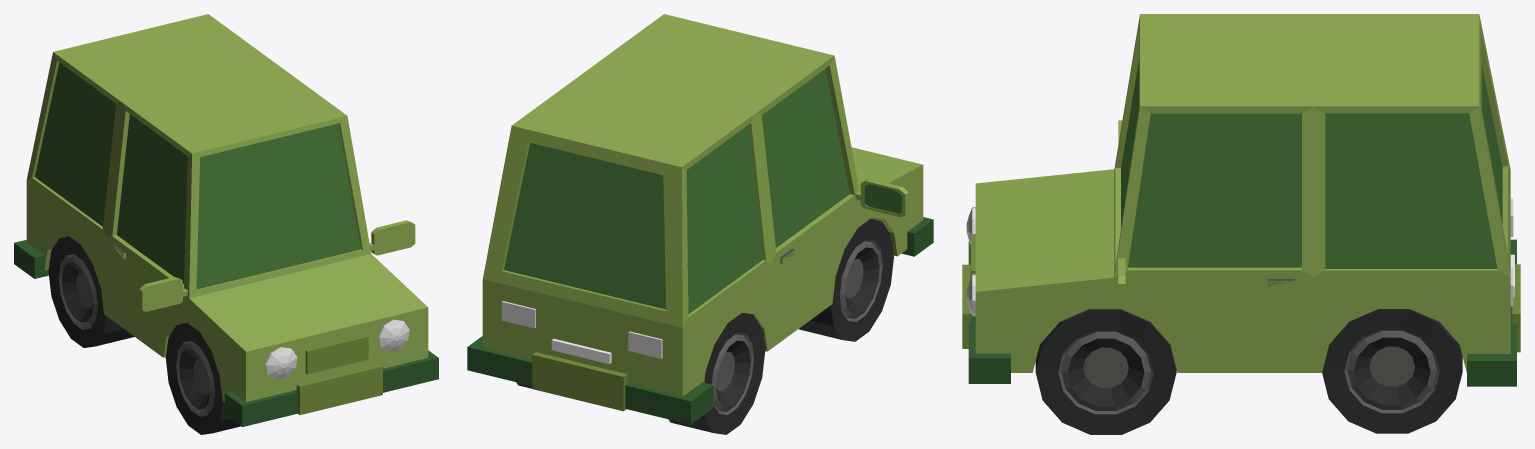
File: mobil hijo.fbx
3 renders of one model, left to right at view 1: azimuth 30°, elevation 25°; view 2: azimuth 150°, elevation 25°; view 3: azimuth 270°, elevation 25°, orthographic. The views are drawn at different scales.
Visible parts, largest first — view 1: mobil hijau, lampu depan.001; view 2: mobil hijau, lampu merah belakang; view 3: mobil hijau, lampu depan.001.
Boxes of the visible parts, left/top/right/bottom form: mobil hijau: left=14, top=14, right=438, bottom=434; lampu depan.001: left=265, top=319, right=409, bottom=379; mobil hijau: left=467, top=14, right=933, bottom=434; lampu merah belakang: left=501, top=301, right=662, bottom=358; mobil hijau: left=962, top=14, right=1520, bottom=434; lampu depan.001: left=966, top=207, right=975, bottom=316.
Size of the model in its own units: 419 by 387 by 608.
